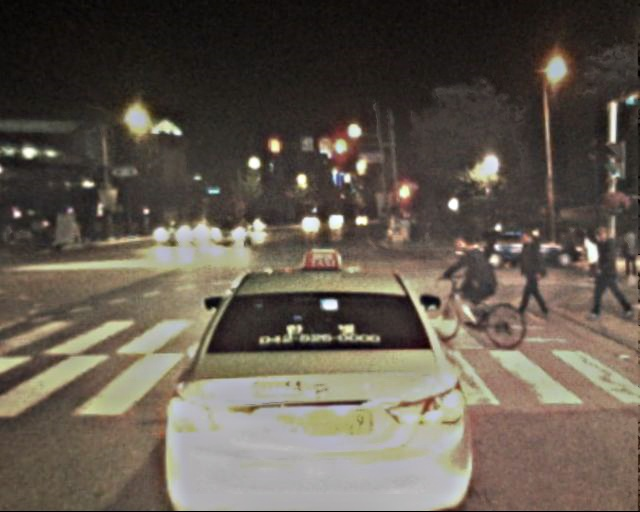person: (464, 237, 504, 334), (514, 228, 553, 323), (589, 229, 625, 318), (616, 222, 640, 283), (579, 226, 603, 284)
